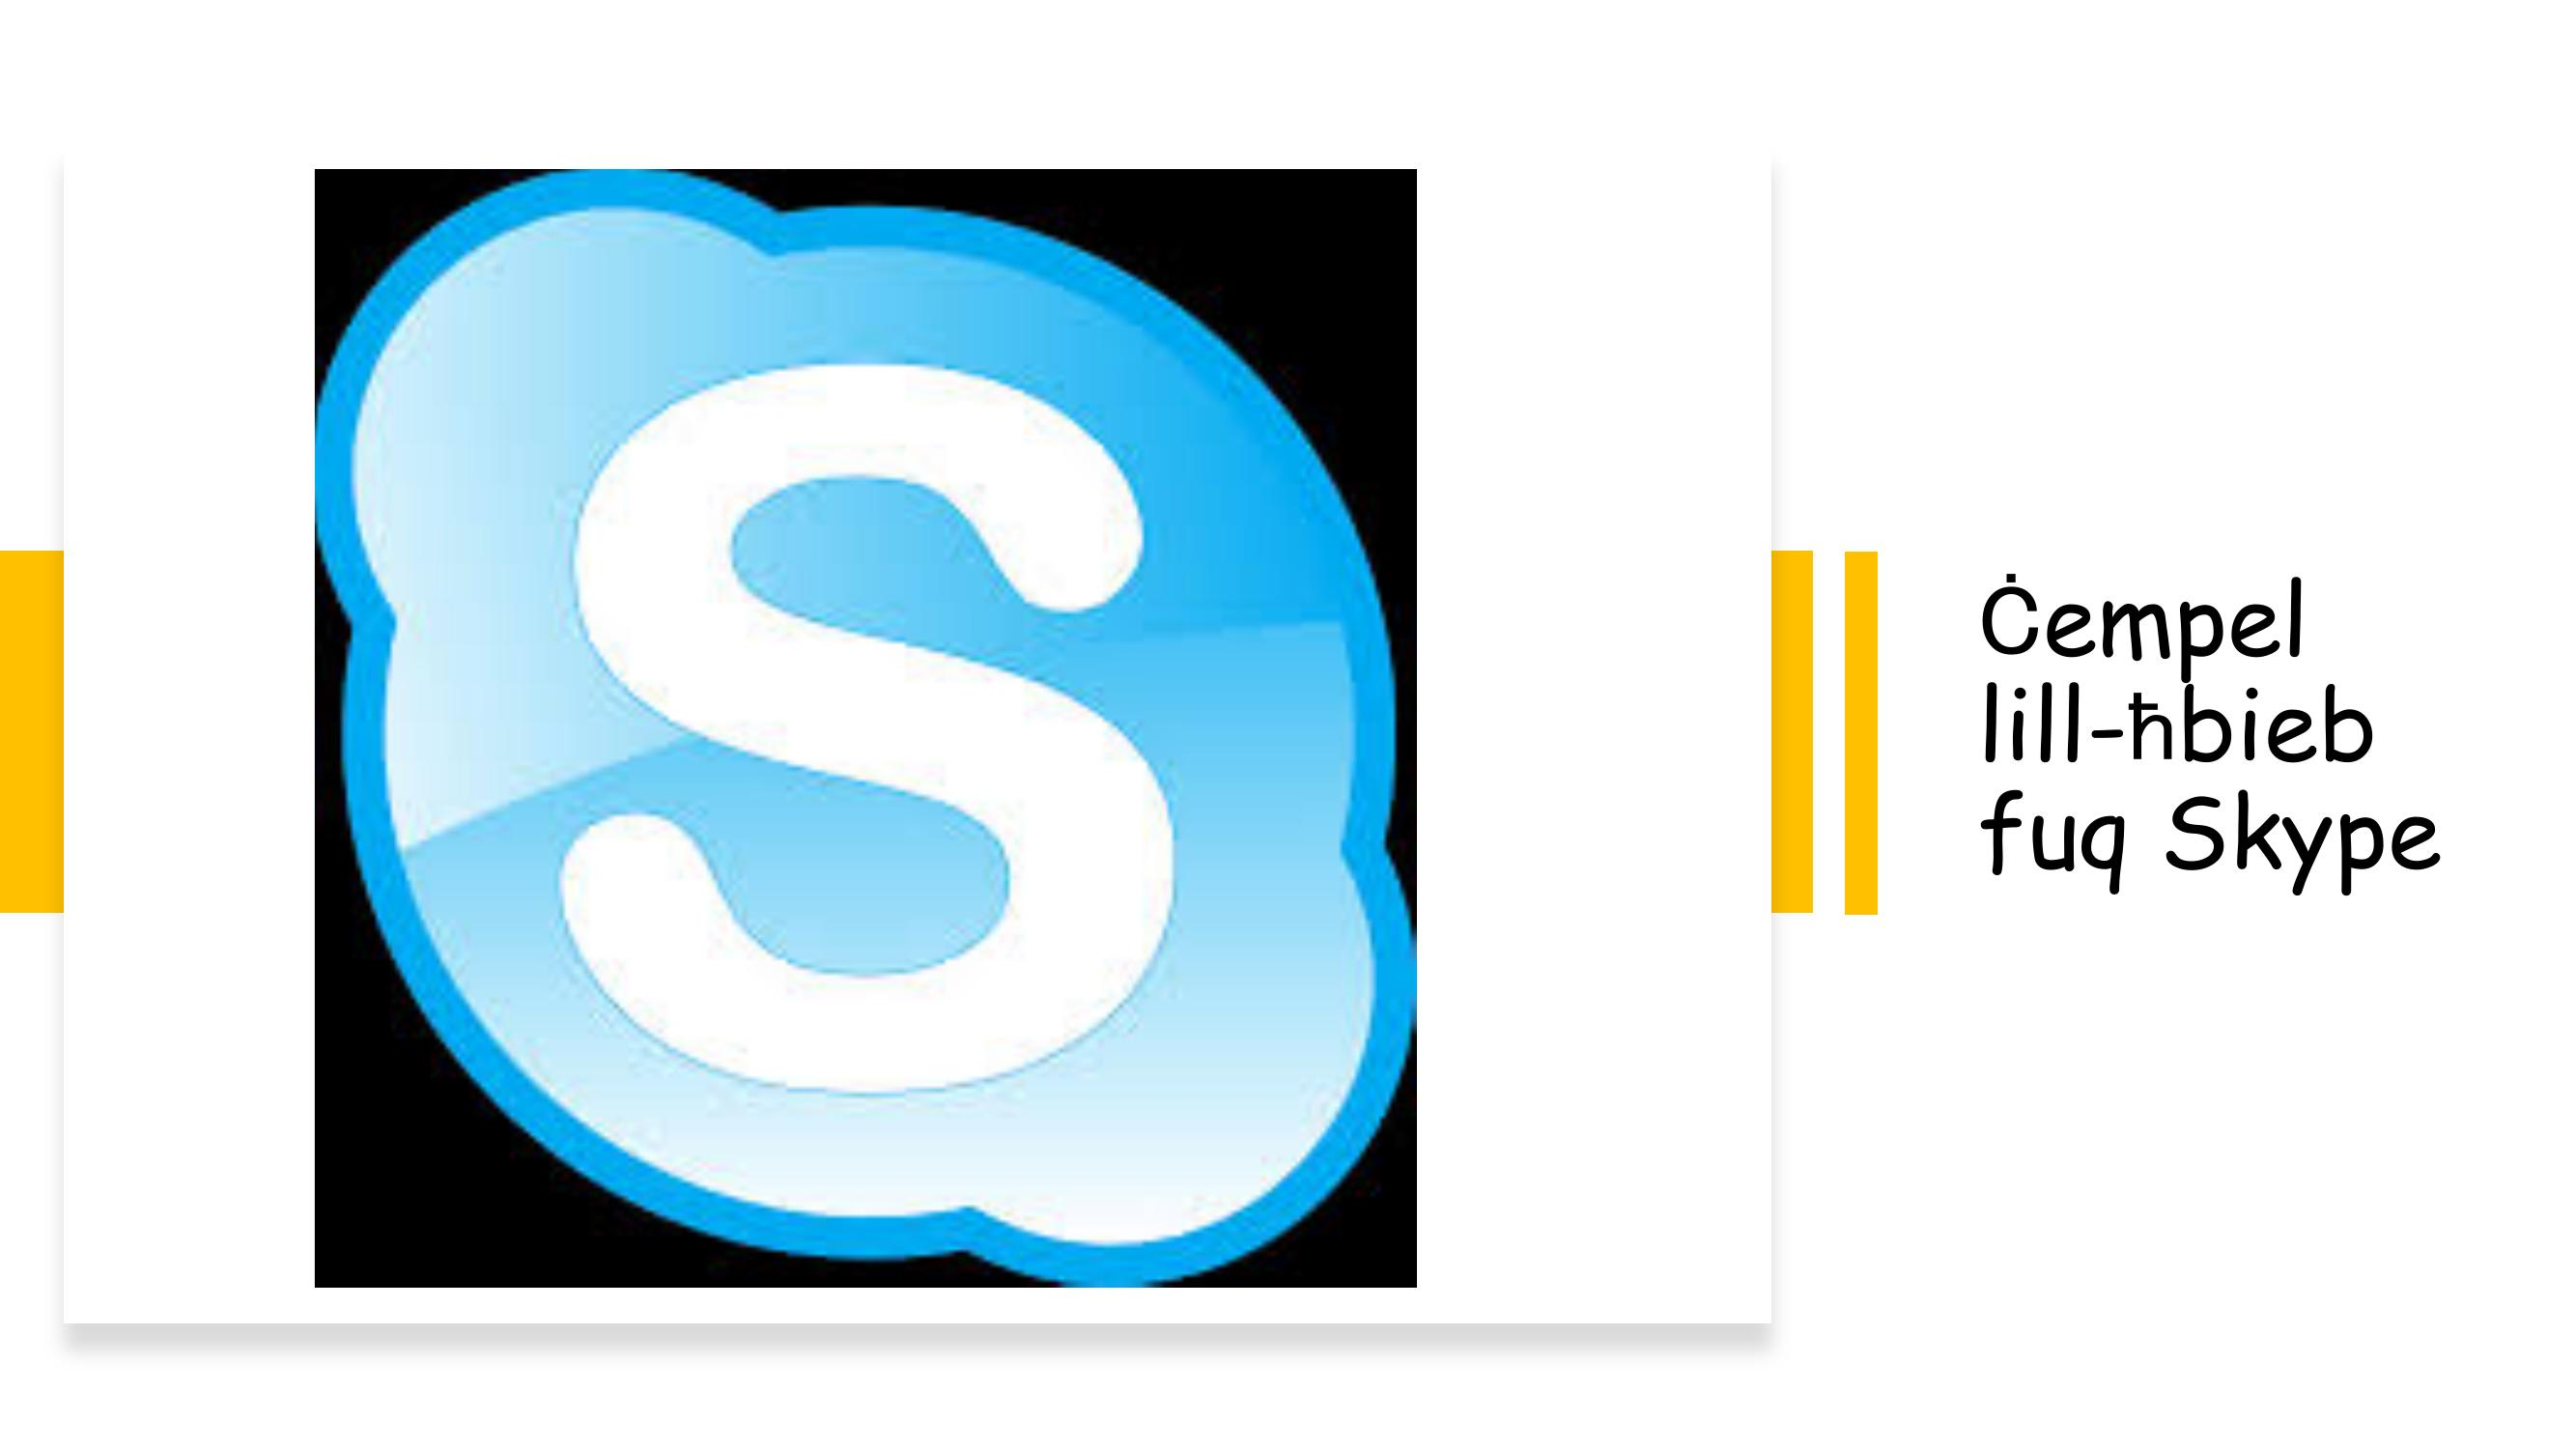text: (1951, 552, 2470, 922)
